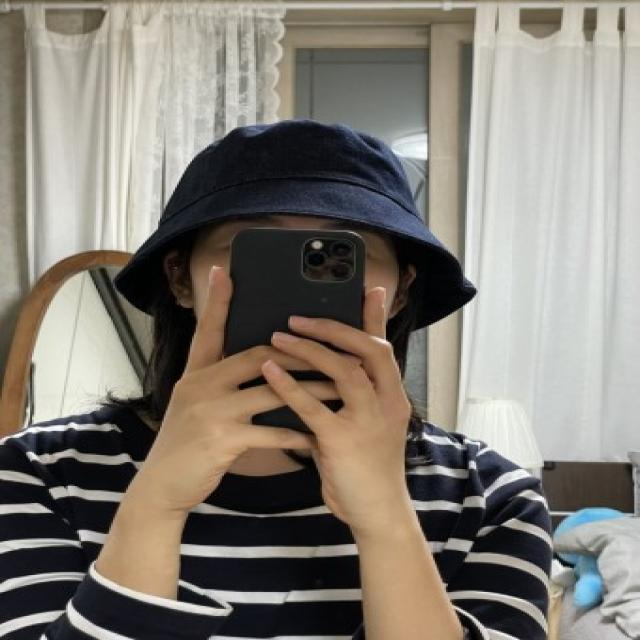hat: (111, 117, 488, 349)
